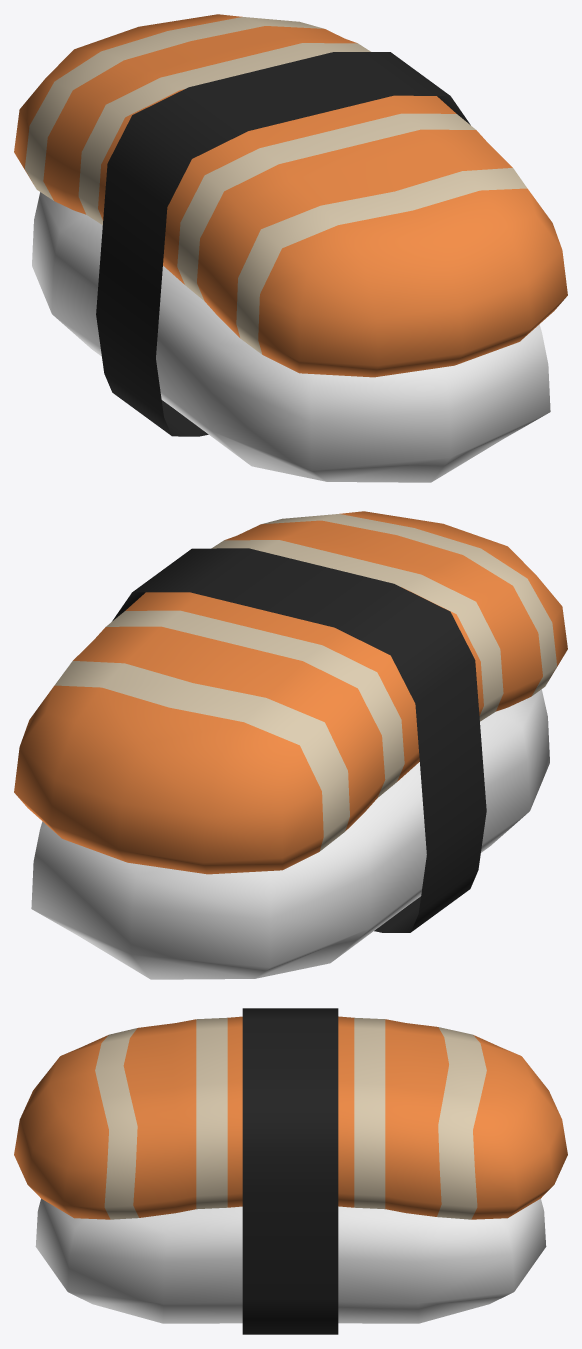
File: Salmon Nigiri.glb
3 views of the same model, one above another, from view 1: azimuth 30°, elevation 25°; view 2: azimuth 150°, elevation 25°; view 3: azimuth 270°, elevation 25° (orthographic). The views are drawn at different scales.
Visible parts, largest first — view 1: Food_SalmonNigiri; view 2: Food_SalmonNigiri; view 3: Food_SalmonNigiri.
Boxes of the visible parts, bbox=[...] form: Food_SalmonNigiri: bbox=[14, 14, 567, 482]; Food_SalmonNigiri: bbox=[14, 511, 567, 979]; Food_SalmonNigiri: bbox=[14, 1008, 567, 1334].
Size of the model in its own units: 0.3557 by 0.3141 by 0.6512.
1 material, 1 textured.
